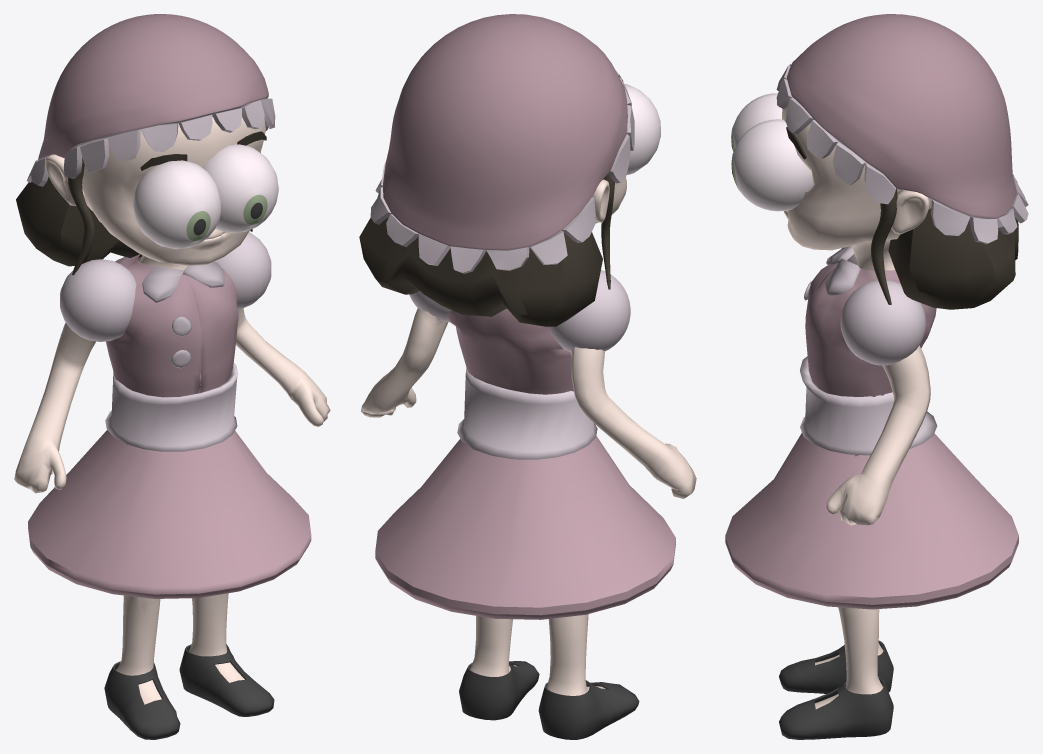
Rendered from Jane 3.6.fbx.
3 renders of one model, left to right at view 1: azimuth 30°, elevation 25°; view 2: azimuth 150°, elevation 25°; view 3: azimuth 270°, elevation 25°, orthographic. The views are drawn at different scales.
Visible parts, largest first — view 1: Jane_Clothes2.001, Jane_Dress, Jene_EyesL.001, Jene_EyesL; view 2: Jane_Clothes2.001, Jane_Dress, Jene_EyesL.001; view 3: Jane_Clothes2.001, Jane_Dress, Jene_EyesL, Jene_EyesL.001.
Boxes of the visible parts, bbox=[...] form: Jane_Clothes2.001: bbox=[14, 14, 330, 739]; Jane_Dress: bbox=[28, 374, 311, 598]; Jene_EyesL.001: bbox=[133, 160, 220, 249]; Jene_EyesL: bbox=[202, 144, 278, 233]; Jane_Clothes2.001: bbox=[359, 14, 696, 739]; Jane_Dress: bbox=[375, 436, 675, 619]; Jene_EyesL.001: bbox=[624, 83, 660, 174]; Jane_Clothes2.001: bbox=[776, 14, 1028, 739]; Jane_Dress: bbox=[725, 433, 1018, 609]; Jene_EyesL: bbox=[731, 119, 813, 211]; Jene_EyesL.001: bbox=[731, 93, 782, 151].
Size of the model in its own units: 76.95 by 157 by 63.07.
